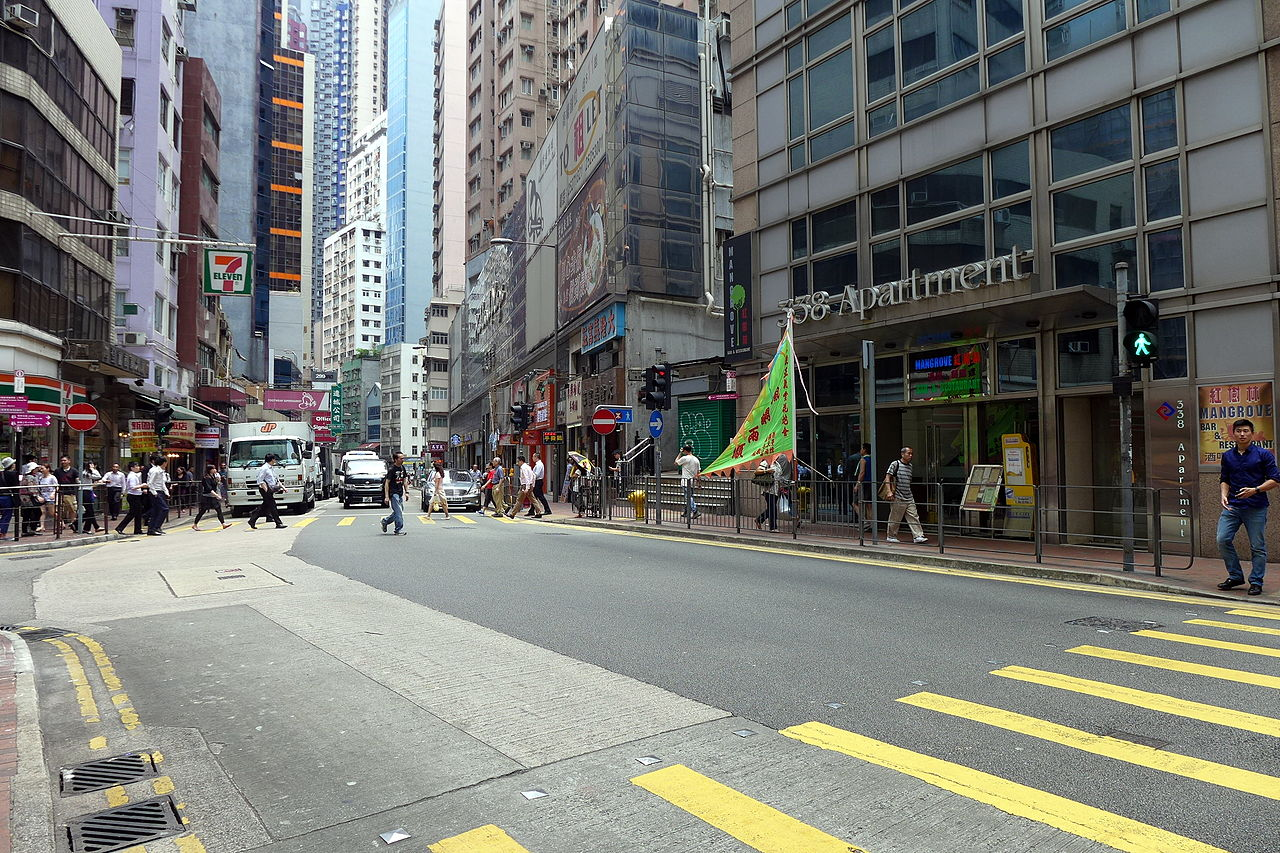No Enter: (66, 403, 99, 431), (592, 409, 616, 434)
Turn Right: (648, 411, 664, 439)
